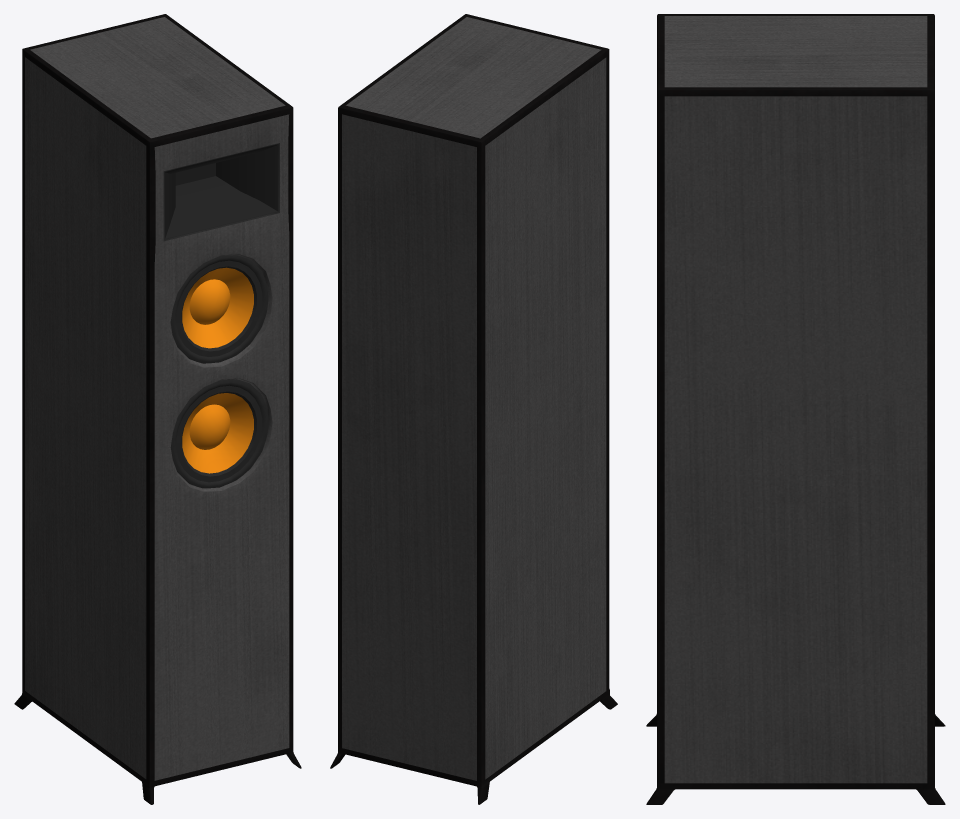
The model's file is tech_aud_2.glb.
3 views of the same model, side by side, from view 1: azimuth 30°, elevation 25°; view 2: azimuth 150°, elevation 25°; view 3: azimuth 270°, elevation 25° (orthographic). The views are drawn at different scales.
Parts seen in each view (by area): view 1: Box_BoxRim_0; view 2: Box_BoxRim_0; view 3: Box_BoxRim_0.
Part boxes in pixels (left/top/right/bottom): Box_BoxRim_0: left=14, top=14, right=301, bottom=804; Box_BoxRim_0: left=330, top=14, right=617, bottom=804; Box_BoxRim_0: left=646, top=14, right=945, bottom=804.
Size of the model in its own units: 0.1199 by 0.4995 by 0.1898.
6 materials, 6 textured.
